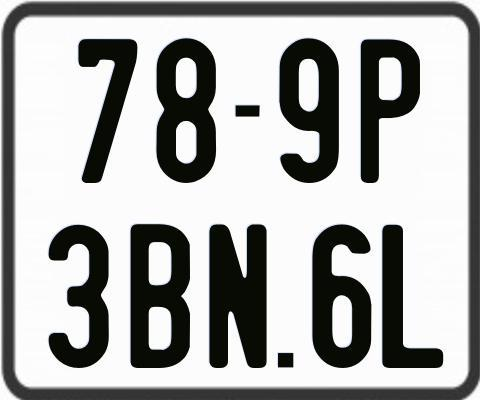3: (48, 224, 112, 369)
6: (311, 221, 370, 366)
7: (78, 37, 137, 182)
8: (153, 36, 213, 184)
9: (277, 36, 339, 186)
B: (129, 222, 188, 372)
L: (379, 222, 445, 369)
N: (208, 223, 269, 372)
P: (361, 38, 420, 187)
